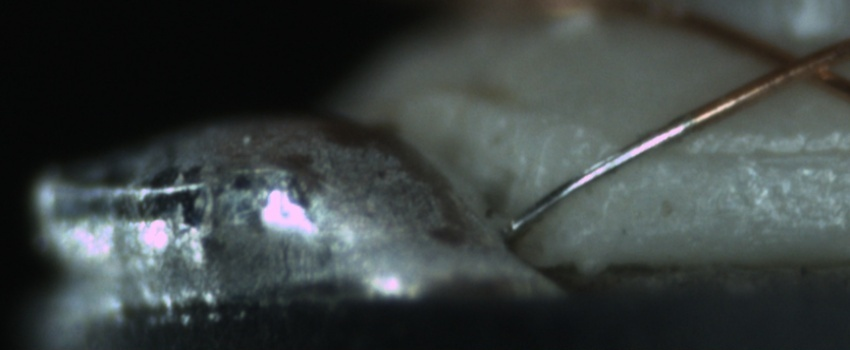CL: (750, 33, 844, 94)
DL: (659, 123, 849, 181)
TS: (509, 114, 701, 236)
